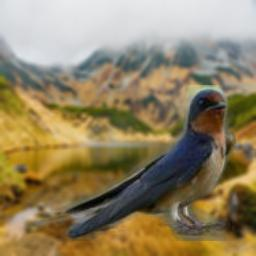Swallow: (33, 85, 236, 241)
